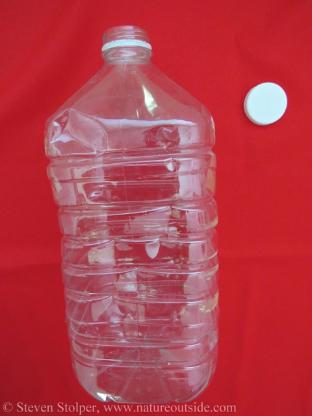Plastic Bottle: (44, 24, 220, 404)
